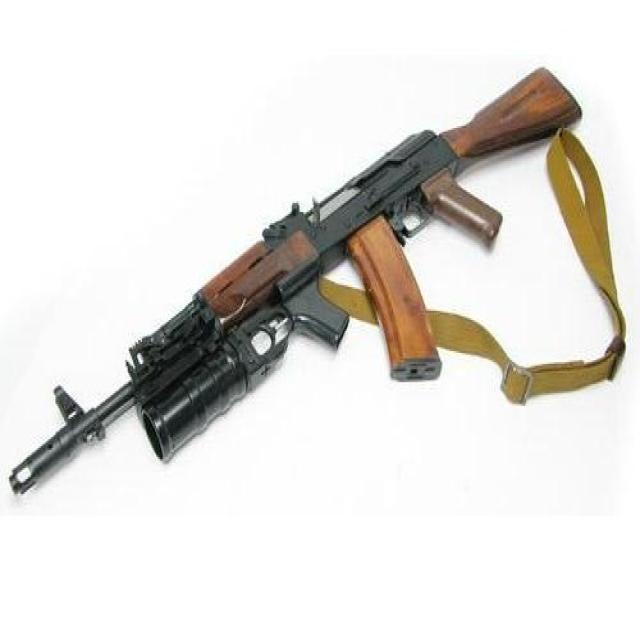Gun: (1, 62, 585, 514)
